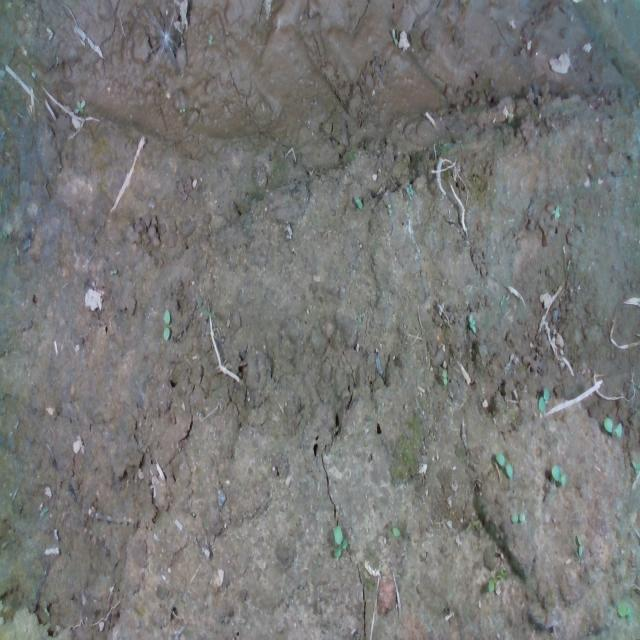weed: (493, 447, 517, 486), (598, 412, 624, 440), (548, 460, 572, 489), (332, 523, 350, 561), (536, 386, 552, 416), (508, 508, 532, 528), (161, 307, 173, 345), (106, 263, 122, 283), (402, 182, 414, 204), (466, 313, 479, 333), (440, 364, 450, 386), (351, 191, 364, 206), (551, 202, 561, 221), (385, 200, 397, 215)
